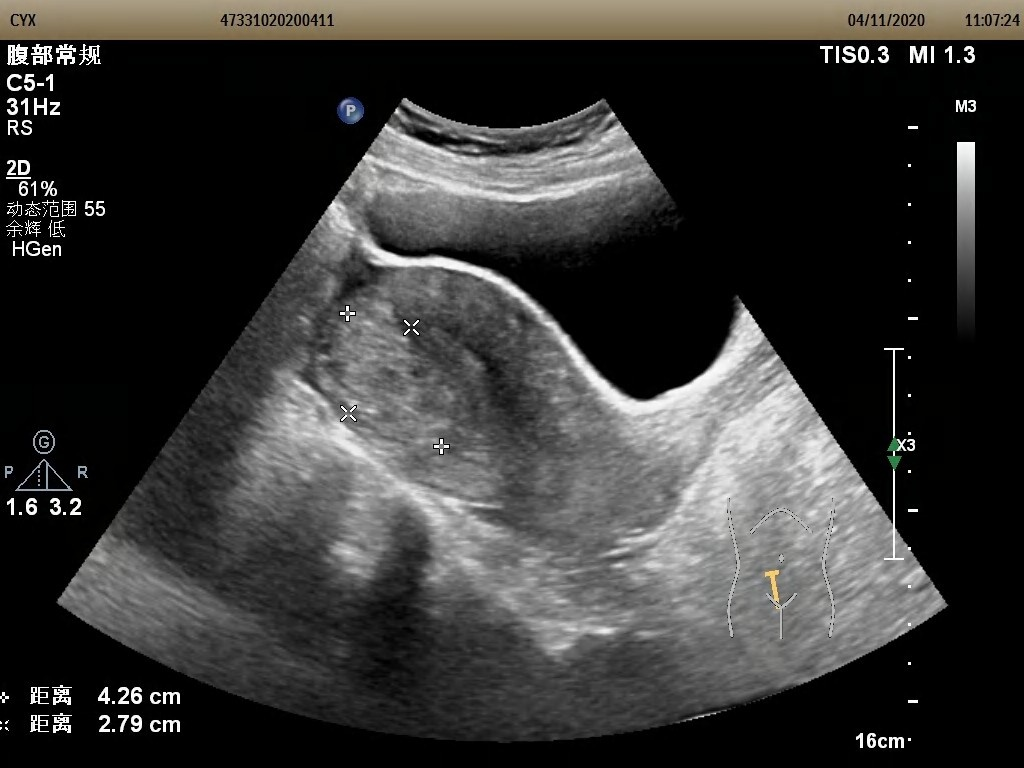肌瘤: (327, 311, 456, 449)
